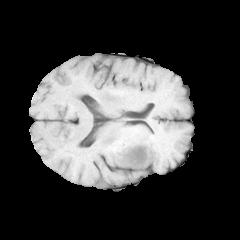glioma: (116, 142, 153, 168)
